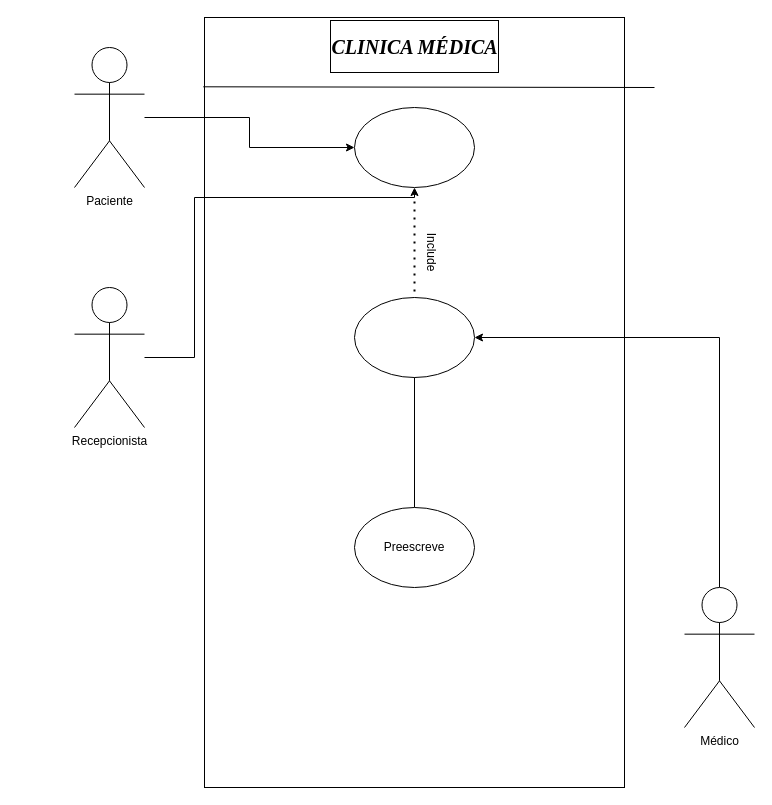
Some shapes in this 772 by 805 pixel diagram are drawn without their labels. Here are the shapes that lost their labels. From the top down, the centre of each, then its label:
At [414,147]: "Agenda".
At [414,337]: "Consulta".
